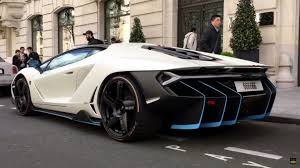Lamborghini: (21, 42, 272, 137)
